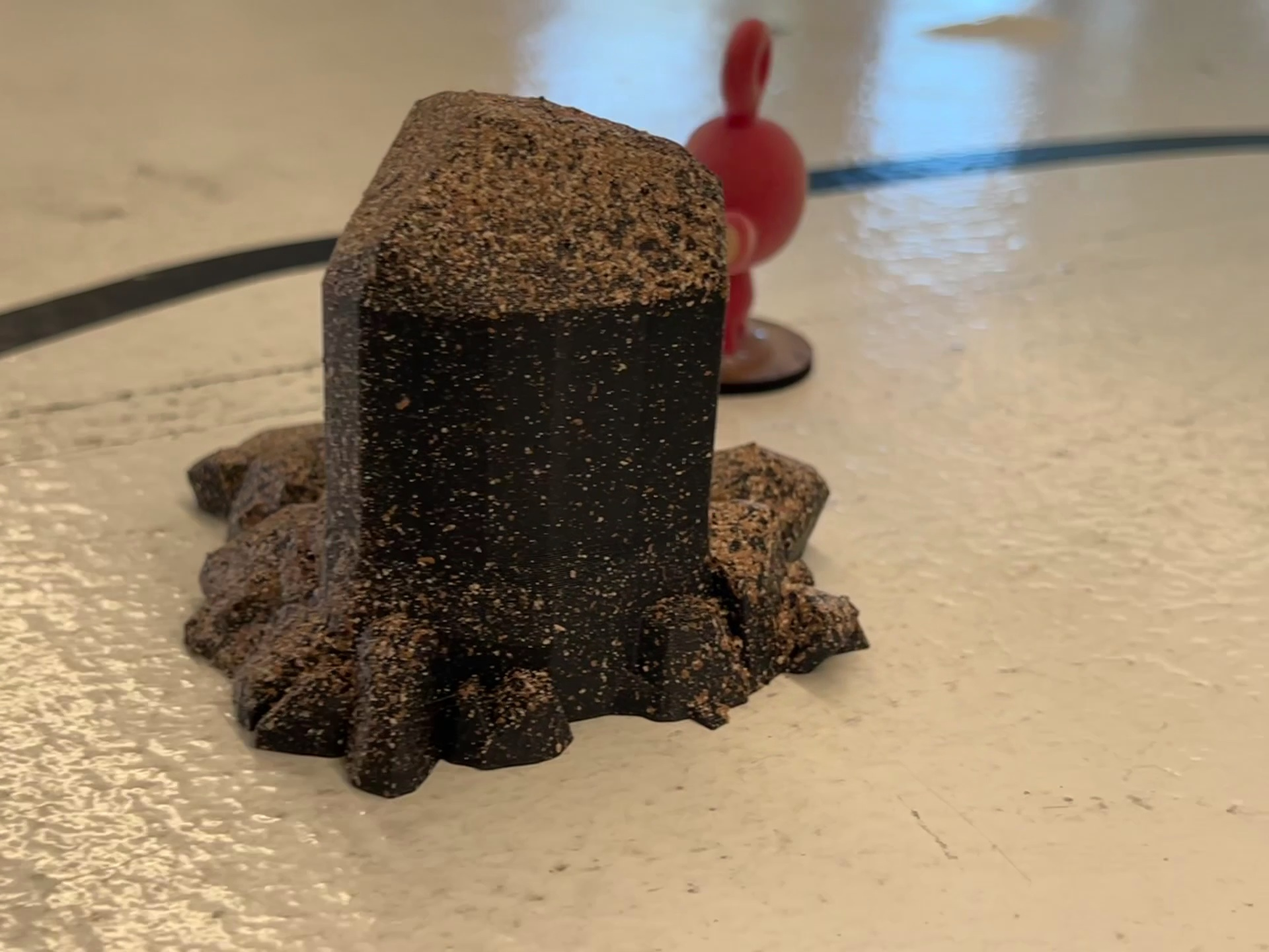teletubby: (686, 19, 808, 357)
